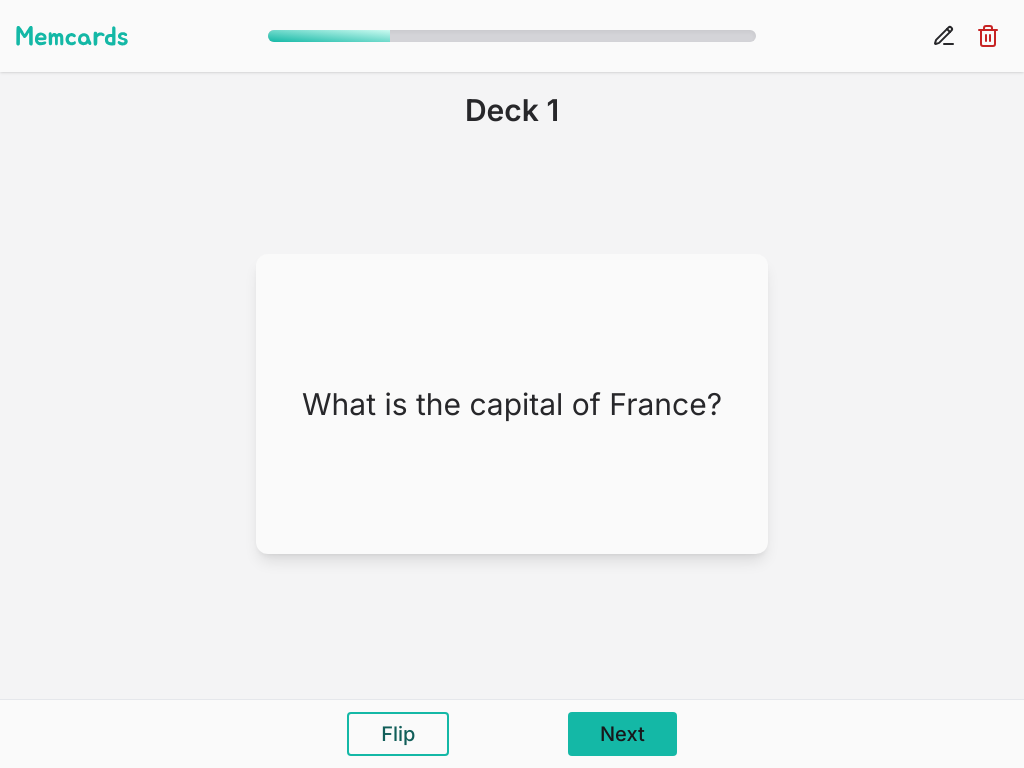
Scenario: StudyView › flips the card
Expected: the text "What is the capital of France?" is shown, [302,386,722,422]
Expected: the text "Paris" is not shown
Click the button "Flip".
click(398, 734)  # box [347,712,450,756]
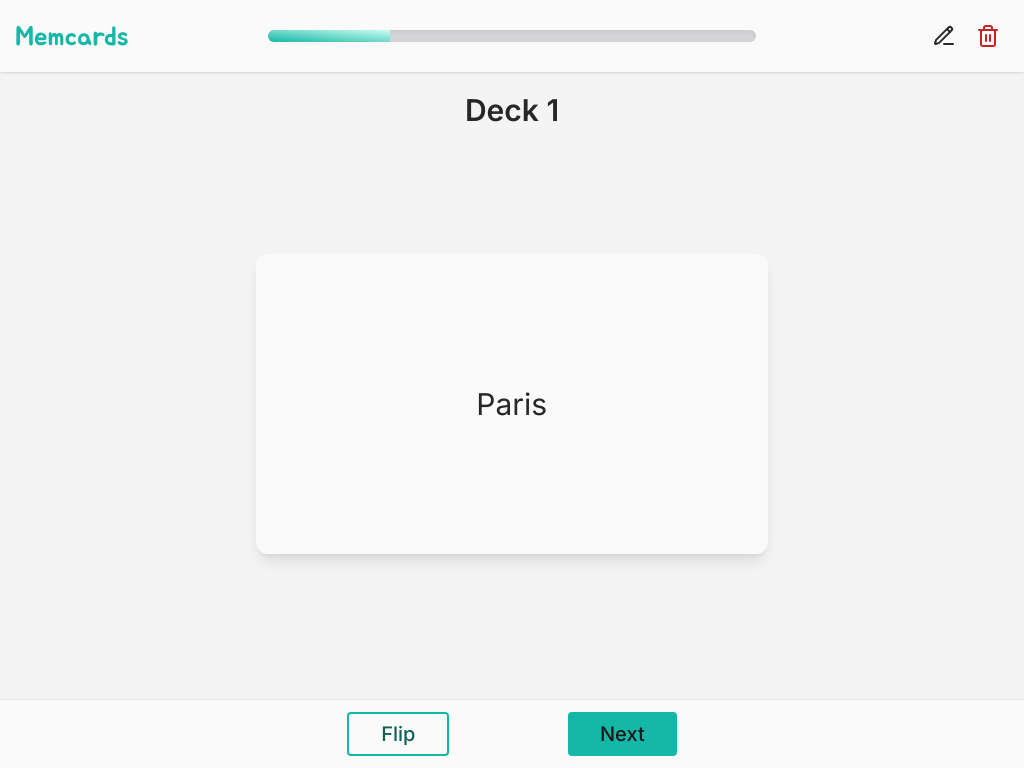
Expected: the text "Paris" is shown, [477,386,547,422]
